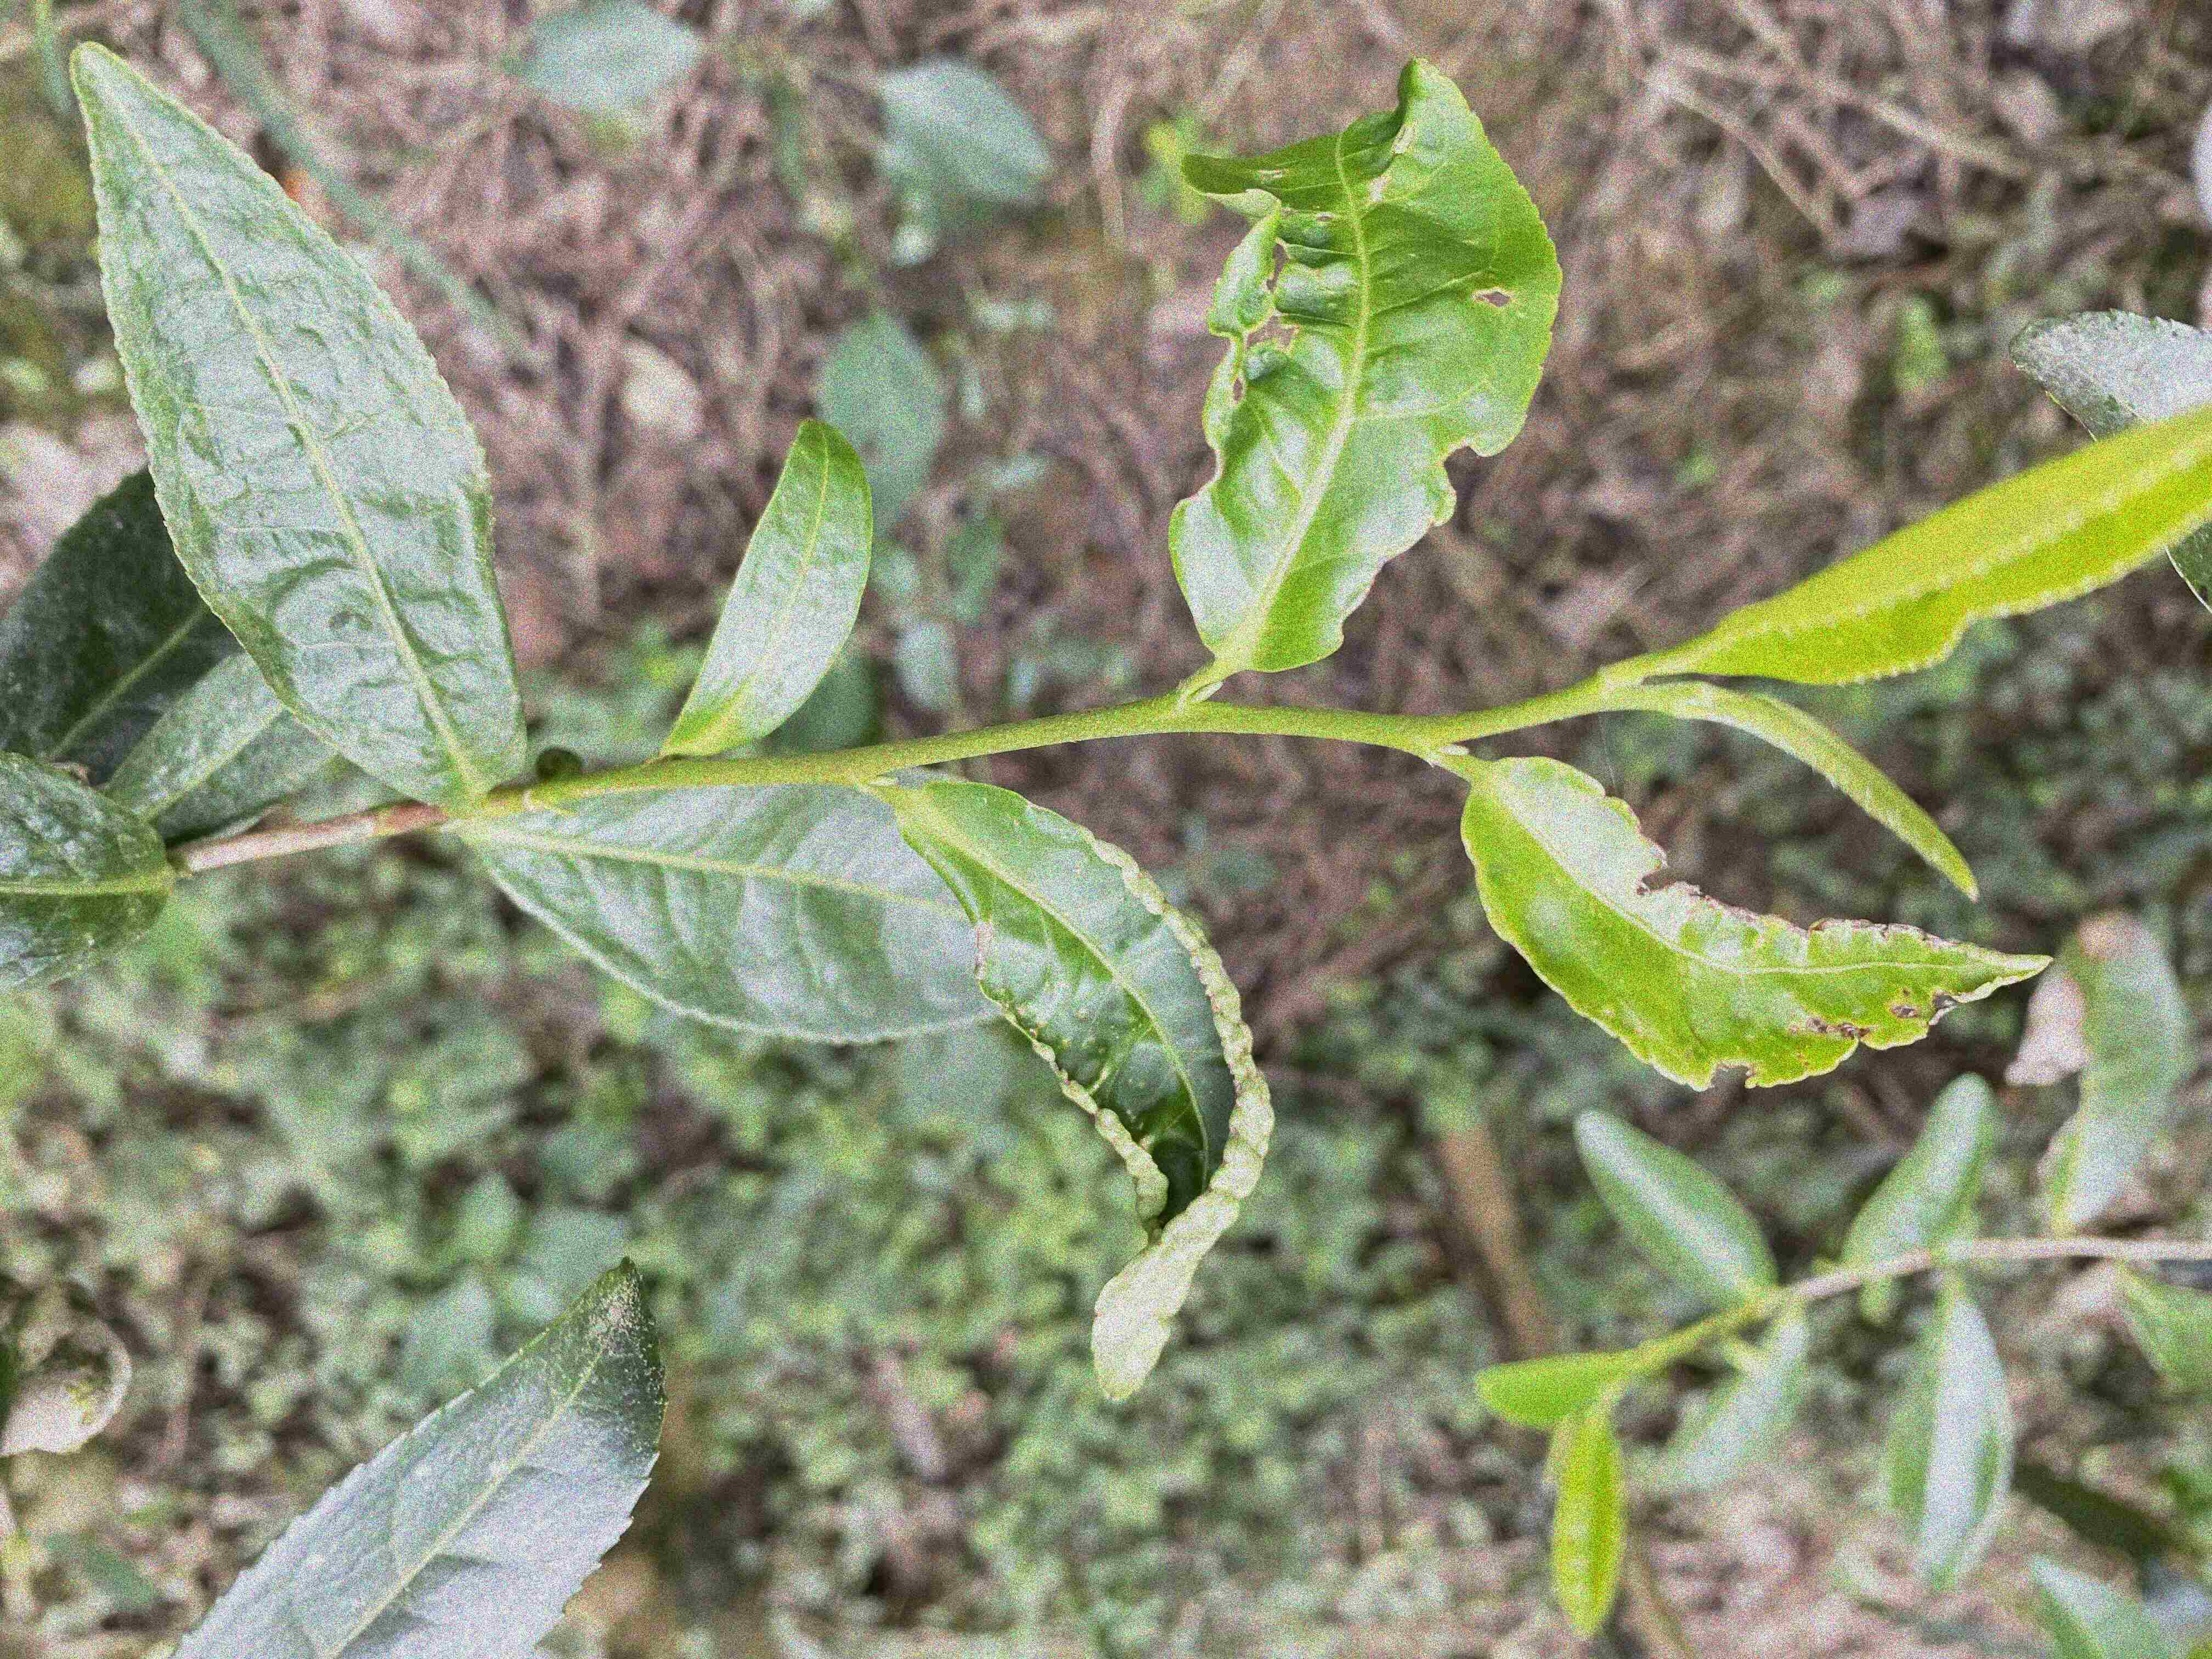chihuo_high: (1163, 54, 1566, 673), (900, 779, 1280, 1401), (1458, 753, 2054, 1094)
healthy: (64, 40, 529, 814), (667, 418, 876, 756)
